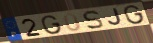0: (63, 13, 82, 32)
2: (21, 18, 43, 38)
G: (123, 4, 146, 25), (40, 14, 63, 35)
J: (107, 7, 124, 27)
S: (82, 10, 105, 30)
